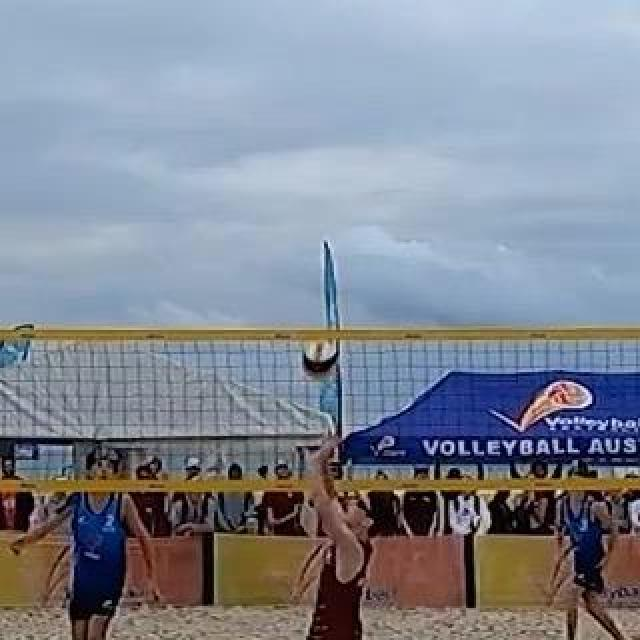volleyball: (301, 339, 339, 377)
